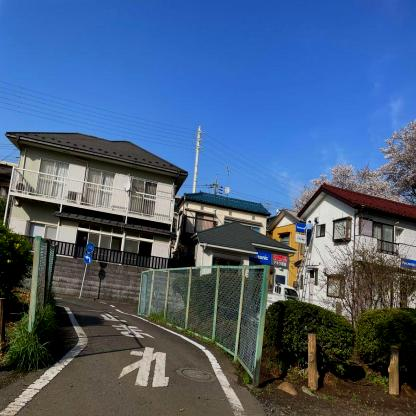Someiyoshino: (288, 156, 416, 218), (376, 111, 416, 198)
